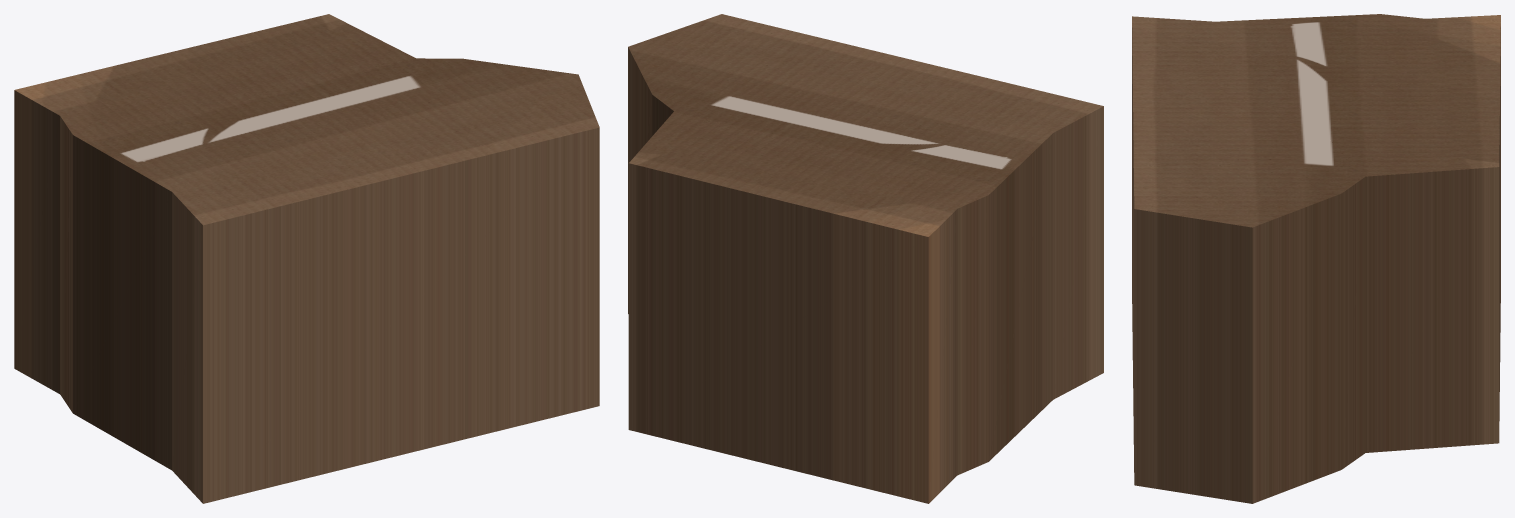
The model's file is road_1.FBX.
The picture shows the model from 3 angles, left to right: view 1: azimuth 30°, elevation 25°; view 2: azimuth 150°, elevation 25°; view 3: azimuth 270°, elevation 25°; orthographic projection. The views are drawn at different scales.
Parts seen in each view (by area): view 1: road_1; view 2: road_1; view 3: road_1.
Part boxes in pixels (x1,y1,x2,y2): road_1: (14,14,599,503); road_1: (628,14,1103,503); road_1: (1132,14,1500,503).
Bounding box in the file's own units: 663 × 400 × 484.
Materials: 1 (1 with a texture image).
